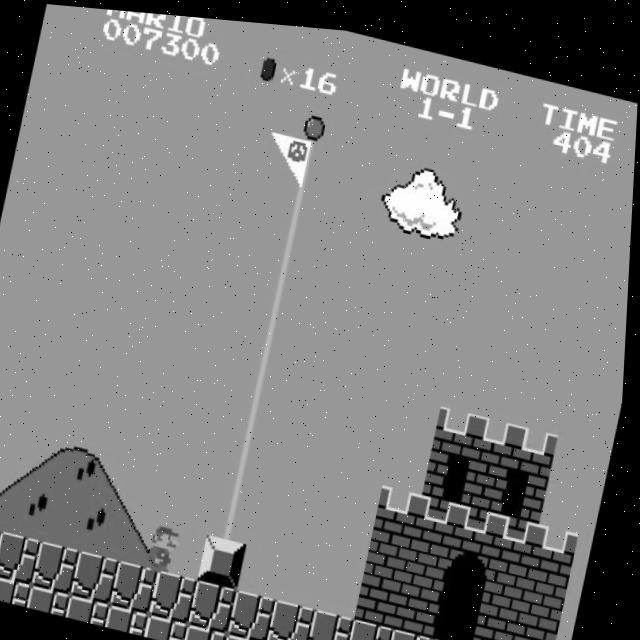1- brick_block: (477, 593, 527, 640)
11- little_mario: (141, 516, 193, 574)
17- undestructible_block: (37, 539, 87, 594), (76, 548, 126, 603), (115, 557, 165, 612), (154, 566, 204, 621), (194, 575, 244, 630), (233, 584, 283, 639), (0, 530, 47, 585), (272, 593, 322, 640), (311, 602, 361, 640), (32, 583, 77, 616), (71, 593, 117, 625), (351, 611, 401, 640), (111, 602, 156, 634), (150, 611, 195, 640), (0, 575, 38, 607), (390, 620, 440, 640), (189, 620, 234, 640), (429, 629, 479, 640), (228, 629, 274, 640), (0, 522, 8, 576), (469, 638, 518, 640), (268, 638, 313, 640)
7- goal_pole: (283, 128, 334, 184), (256, 262, 307, 318), (229, 396, 280, 452), (292, 84, 342, 139), (275, 173, 325, 228), (248, 307, 298, 362), (221, 441, 271, 496), (212, 486, 262, 541), (265, 218, 315, 272), (239, 352, 289, 406)
9- hard_block: (202, 530, 253, 585)
